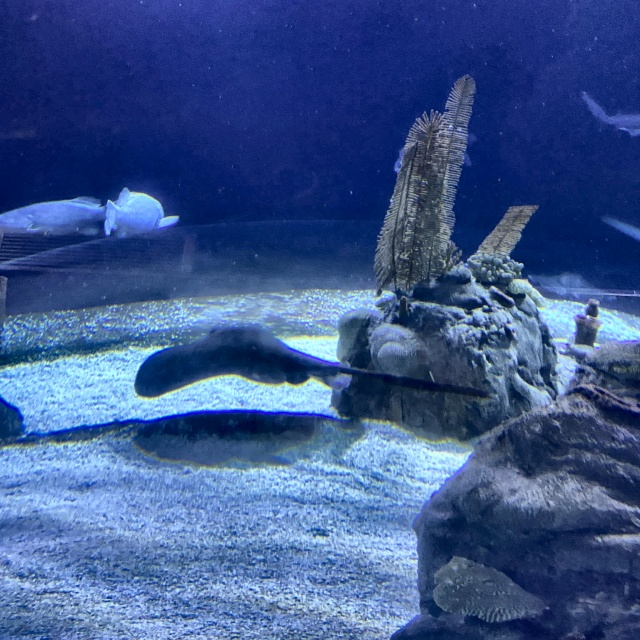fish: (0, 196, 101, 245), (103, 191, 181, 240)
stingray: (134, 318, 335, 391)
